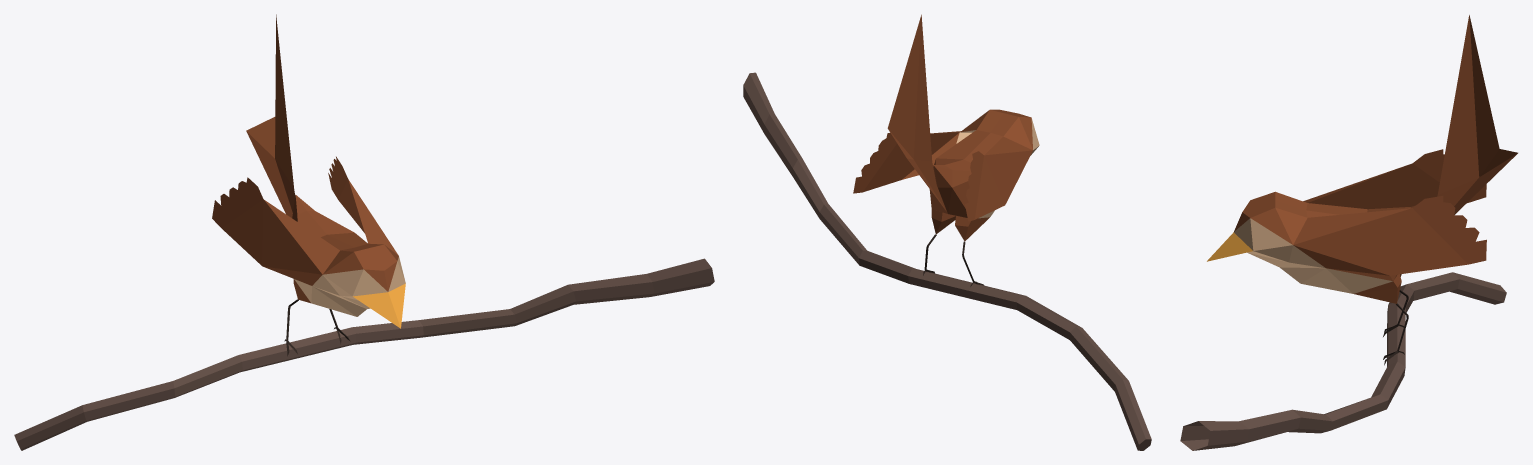
Rendered from ph_bird.glb.
3 views of the same model, side by side, from view 1: azimuth 30°, elevation 25°; view 2: azimuth 150°, elevation 25°; view 3: azimuth 270°, elevation 25° (orthographic). The views are drawn at different scales.
Visible parts, largest first — view 1: Circle_kayu_0.001, Plane.001_Body_0.001, Plane.002_Body_0.001, Plane.001_Body_1_0.001, Plane.001_paruh_0.001; view 2: Plane.001_Body_0.001, Circle_kayu_0.001, Plane.002_Body_0.001; view 3: Plane.001_Body_0.001, Circle_kayu_0.001, Plane.002_Body_0.001, Plane.001_Body_1_0.001, Plane.001_paruh_0.001, Plane.001_kaki_0.001.
Part boxes in pixels (left/top/right/bottom): Circle_kayu_0.001: left=14, top=258, right=714, bottom=450; Plane.001_Body_0.001: left=212, top=156, right=398, bottom=303; Plane.002_Body_0.001: left=246, top=14, right=295, bottom=217; Plane.001_Body_1_0.001: left=294, top=257, right=405, bottom=316; Plane.001_paruh_0.001: left=353, top=283, right=405, bottom=328; Plane.001_Body_0.001: left=853, top=109, right=1032, bottom=241; Circle_kayu_0.001: left=743, top=72, right=1151, bottom=450; Plane.002_Body_0.001: left=887, top=14, right=946, bottom=210; Plane.001_Body_0.001: left=1234, top=149, right=1486, bottom=303; Circle_kayu_0.001: left=1180, top=272, right=1506, bottom=450; Plane.002_Body_0.001: left=1437, top=15, right=1517, bottom=214; Plane.001_Body_1_0.001: left=1234, top=218, right=1392, bottom=293; Plane.001_paruh_0.001: left=1207, top=232, right=1252, bottom=261; Plane.001_kaki_0.001: left=1383, top=290, right=1408, bottom=365.
Bounding box in the file's own units: 6.05 × 4.02 × 2.94.
